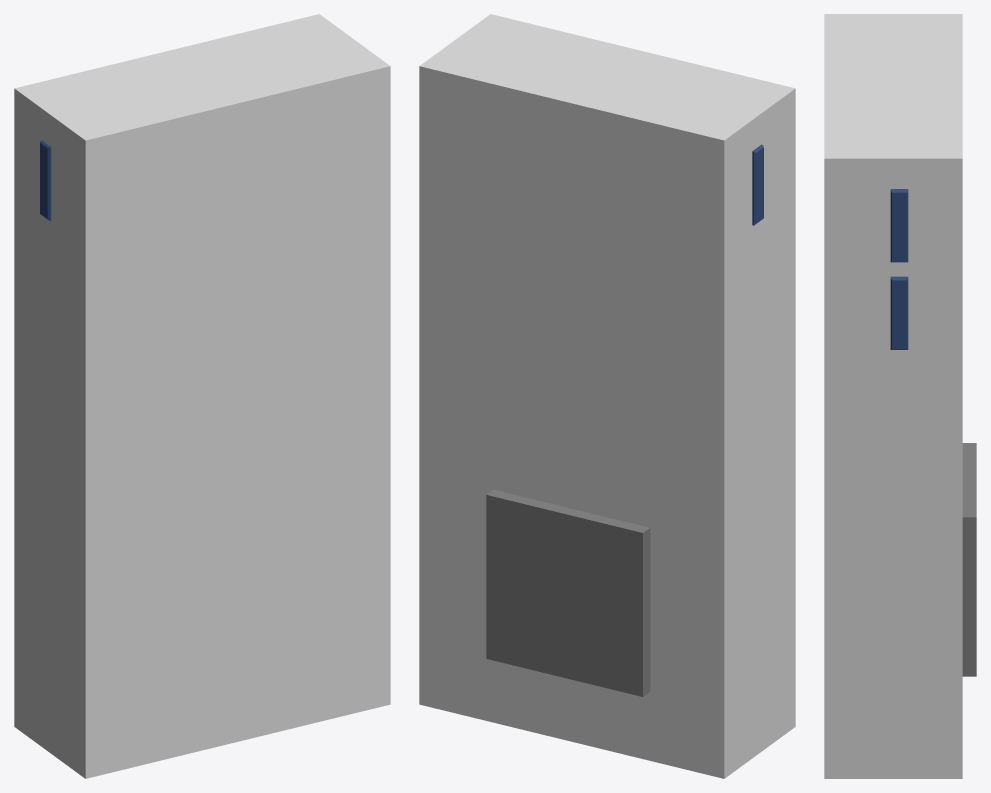
Rendered from DerpBoy.glb.
3 views of the same model, side by side, from view 1: azimuth 30°, elevation 25°; view 2: azimuth 150°, elevation 25°; view 3: azimuth 270°, elevation 25° (orthographic). The views are drawn at different scales.
Visible parts, largest first — view 1: targetBody, Cube.017; view 2: targetBody, targetQr, Cube.017; view 3: targetBody, targetQr, Cube.016, Cube.019.
Part boxes in pixels (bbox=[...]): targetBody: bbox=[14, 14, 390, 778]; Cube.017: bbox=[40, 140, 51, 220]; targetBody: bbox=[419, 14, 795, 778]; targetQr: bbox=[486, 489, 650, 696]; Cube.017: bbox=[752, 144, 763, 225]; targetBody: bbox=[824, 14, 962, 778]; targetQr: bbox=[962, 443, 976, 676]; Cube.016: bbox=[890, 189, 908, 262]; Cube.019: bbox=[890, 276, 908, 349].
Bounding box in the file's own units: 1.04 × 2.02 × 0.4508.
